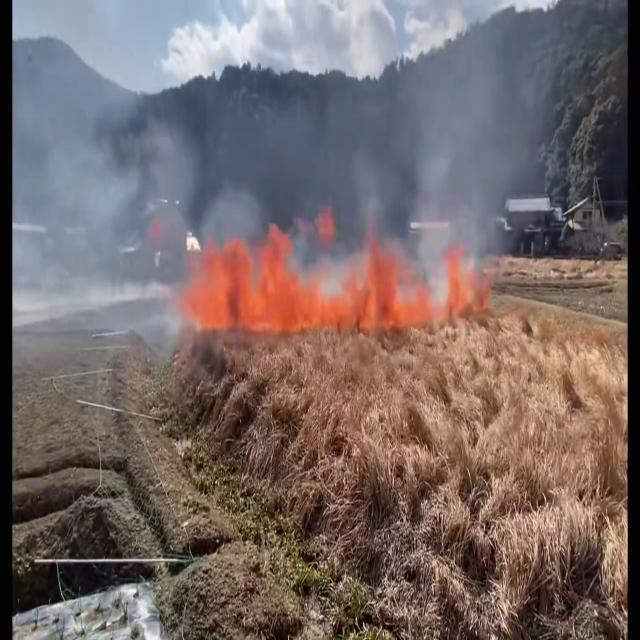Fire: (181, 209, 425, 336), (438, 233, 476, 320)
Smoke: (159, 8, 543, 246), (12, 36, 208, 334)
